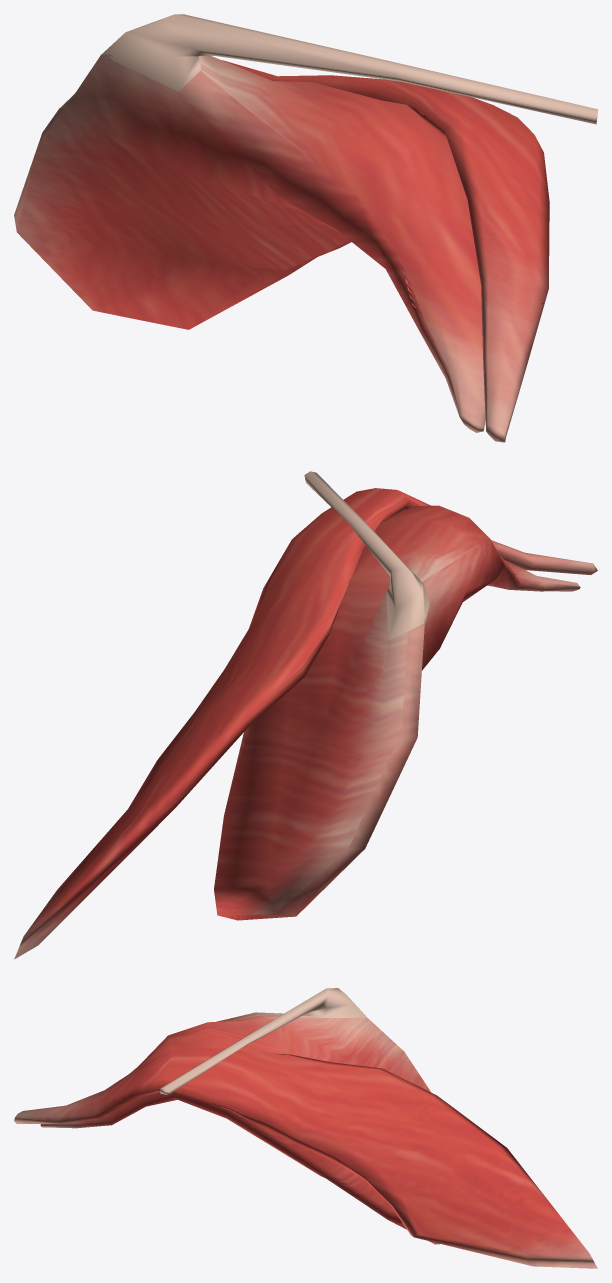
The model's file is PsoasMaior.fbx.
The picture shows the model from 3 angles, top to bottom: view 1: azimuth 30°, elevation 25°; view 2: azimuth 150°, elevation 25°; view 3: azimuth 270°, elevation 25°; orthographic projection. The views are drawn at different scales.
Visible parts, largest first — view 1: PsoasMaior; view 2: PsoasMaior; view 3: PsoasMaior.
Boxes of the visible parts, x1=… form: PsoasMaior: x1=14, y1=14, x2=597, y2=442; PsoasMaior: x1=14, y1=471, x2=597, y2=959; PsoasMaior: x1=14, y1=988, x2=597, y2=1268.
Size of the model in its own units: 46.33 by 51.84 by 122.
